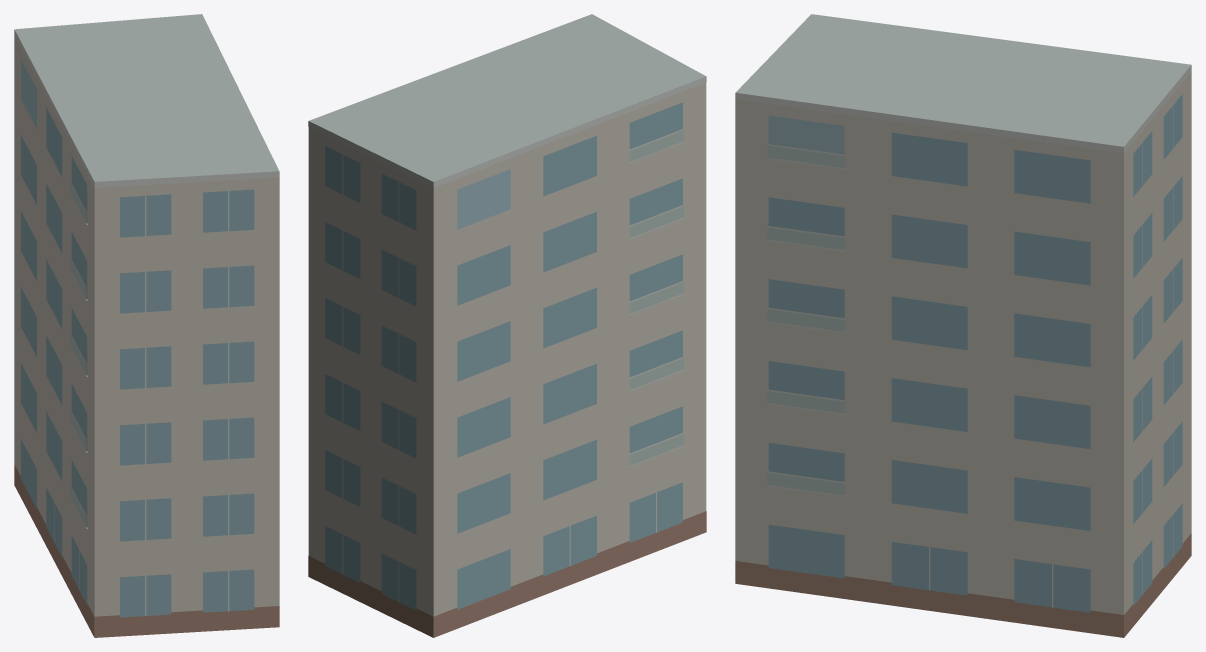
The model's file is survey-upis-32878271.glb.
3 views of the same model, side by side, from view 1: azimuth 30°, elevation 25°; view 2: azimuth 150°, elevation 25°; view 3: azimuth 270°, elevation 25° (orthographic). The views are drawn at different scales.
Parts seen in each view (by area): view 1: survey-upis-32878271.tmp; view 2: survey-upis-32878271.tmp; view 3: survey-upis-32878271.tmp.
Boxes of the visible parts, x1=… form: survey-upis-32878271.tmp: x1=14, y1=14, x2=279, y2=637; survey-upis-32878271.tmp: x1=308, y1=14, x2=706, y2=637; survey-upis-32878271.tmp: x1=735, y1=14, x2=1191, y2=637.
Bounding box in the file's own units: 10.63 × 18.3 × 15.42.
